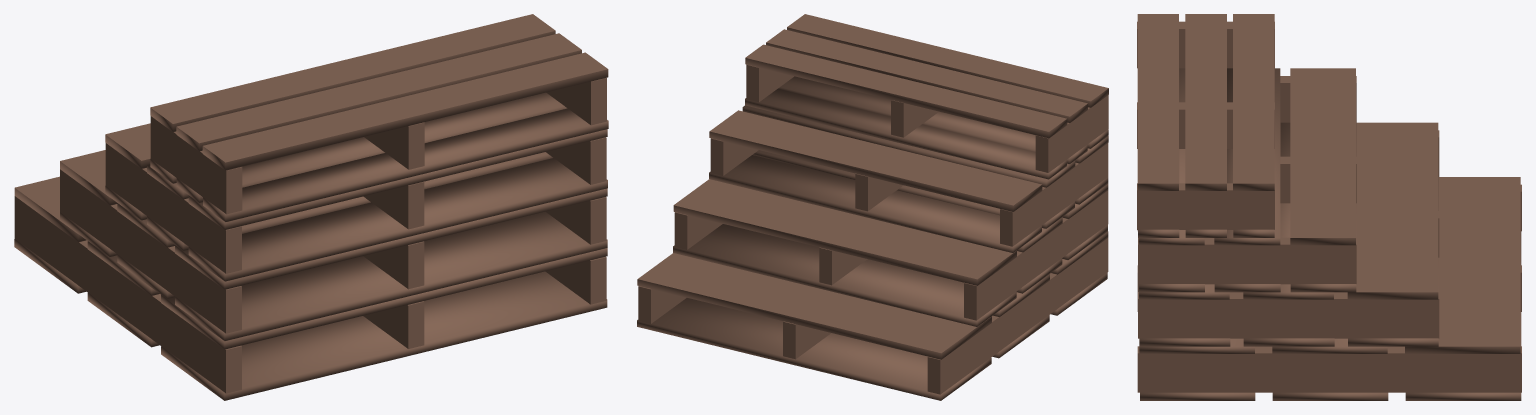
The model's file is stairs v4.fbx.
3 views of the same model, side by side, from view 1: azimuth 30°, elevation 25°; view 2: azimuth 150°, elevation 25°; view 3: azimuth 270°, elevation 25° (orthographic). The views are drawn at different scales.
Parts seen in each view (by area): view 1: Cube; view 2: Cube; view 3: Cube.
Part boxes in pixels (x1=…): Cube: x1=14, y1=14, x2=608, y2=400; Cube: x1=637, y1=14, x2=1108, y2=400; Cube: x1=1137, y1=14, x2=1521, y2=400.
Size of the model in its own units: 780 by 466 by 748.
